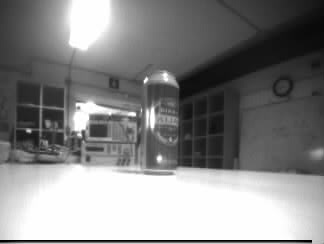Tin can: (137, 68, 180, 173)
